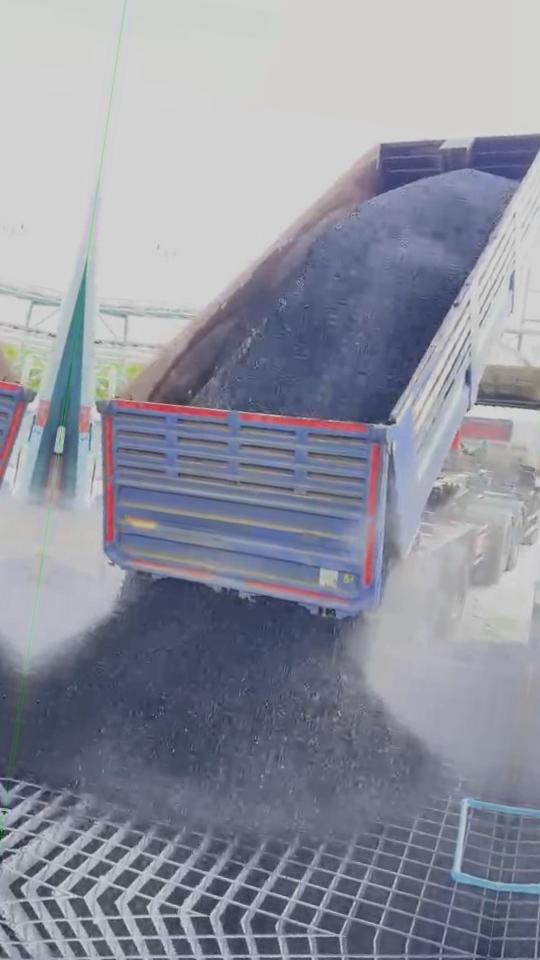gravel: (14, 579, 442, 838), (197, 169, 516, 421)
